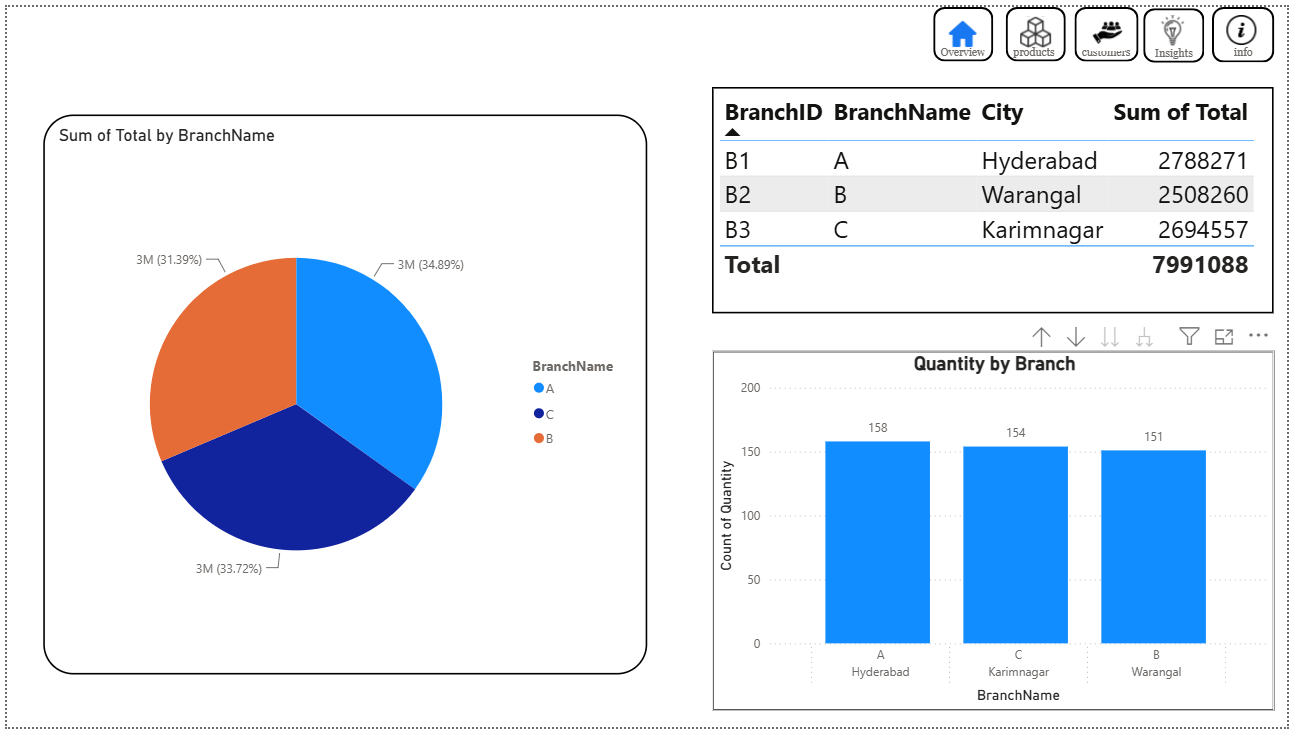

Layout of this report page (visuals, bound fields, positions):
{"tool":"powerbi","page":{"name":"branch","canvas":[1280,720],"ordinal":2},"visuals":[{"type":"pieChart","fields":{"Category":["Branches.BranchName"],"Y":["Sum(Sales.Total)"]},"box":[36.2,107.5,603.8,560],"z":0},{"type":"actionButton","title":"home button","box":[926.7,0,60,54.4],"z":2000},{"type":"actionButton","title":"products button","box":[998.9,0,60,54.4],"z":3000},{"type":"actionButton","title":"customers button","box":[1068,0,64,54.7],"z":4000},{"type":"actionButton","title":"insights button","box":[1136.7,1.1,61.1,54.4],"z":5000},{"type":"actionButton","title":"info button","box":[1205.6,0,62.2,55.6],"z":6000},{"type":"tableEx","fields":{"Values":["Branches.BranchID","Branches.BranchName","Branches.City","Sum(Sales.Total)"]},"box":[705,80,561.7,226.7],"z":7000},{"type":"columnChart","title":"Quantity by  Branch","fields":{"Category":["Branches.City","Branches.BranchName"],"Y":["CountNonNull(Sales.Quantity)"]},"box":[705,343.8,562.5,360],"z":8000}]}

Visuals, with their boxes in screenshot pixels (x1, y1, x2, y2), scaled from the page's 1280x720 canvas onto the 1298x735 screenshot:
pieChart - Branches.BranchName x Sum(Sales.Total): <region>37, 110, 649, 681</region>
"home button" actionButton: <region>940, 0, 1001, 56</region>
"products button" actionButton: <region>1013, 0, 1074, 56</region>
"customers button" actionButton: <region>1083, 0, 1148, 56</region>
"insights button" actionButton: <region>1153, 1, 1215, 57</region>
"info button" actionButton: <region>1223, 0, 1286, 57</region>
tableEx - Branches.BranchID x Branches.BranchName: <region>715, 82, 1285, 313</region>
"Quantity by  Branch" columnChart: <region>715, 351, 1285, 718</region>
